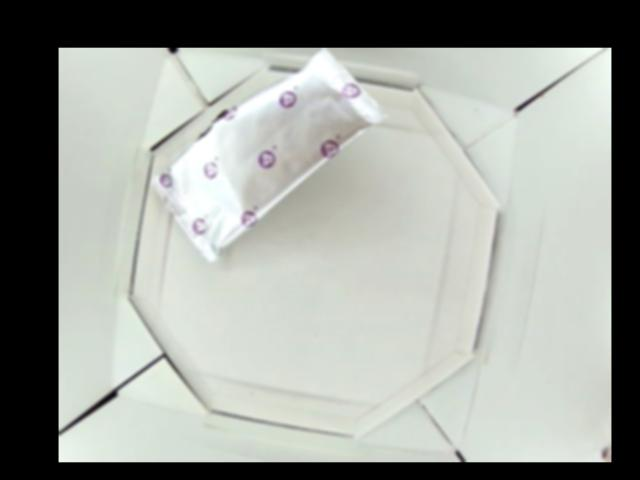Medicine: (150, 48, 388, 259)
